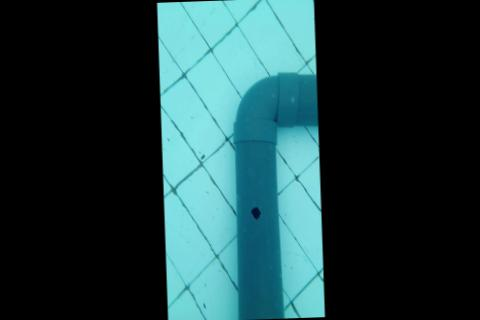kebocoran: (250, 205, 262, 219)
